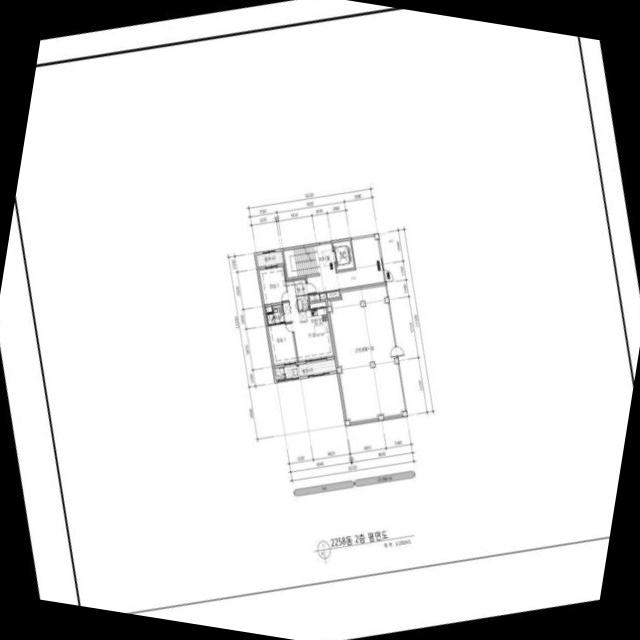background: (0, 0, 640, 640)
space_balconi: (285, 359, 337, 379), (256, 251, 284, 267)
space_bedroom: (268, 323, 297, 366), (259, 266, 288, 305)
space_elevator: (333, 240, 354, 270)
space_elevator_hall: (307, 237, 385, 294)
space_front: (286, 278, 308, 296)
space_kitchen: (299, 308, 331, 336)
space_living_room: (283, 285, 335, 362)
space_multipurpose_space: (297, 295, 310, 311)
space_other: (329, 285, 405, 423), (310, 301, 327, 309), (327, 291, 340, 298), (310, 294, 320, 301), (320, 293, 327, 299), (266, 306, 272, 312), (327, 301, 330, 307)
space_outdoor_room: (274, 367, 285, 380)
space_staircase: (284, 246, 319, 278)
space_toilet: (267, 305, 285, 324)
